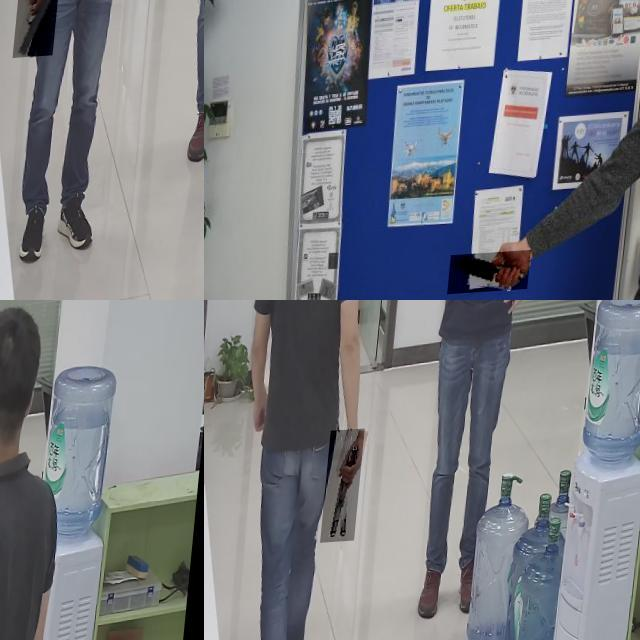-: (456, 255, 538, 298)
gun-knife-thesis - v11 Yolov5 augmented: (328, 432, 371, 546), (0, 446, 27, 581), (19, 0, 67, 59)
